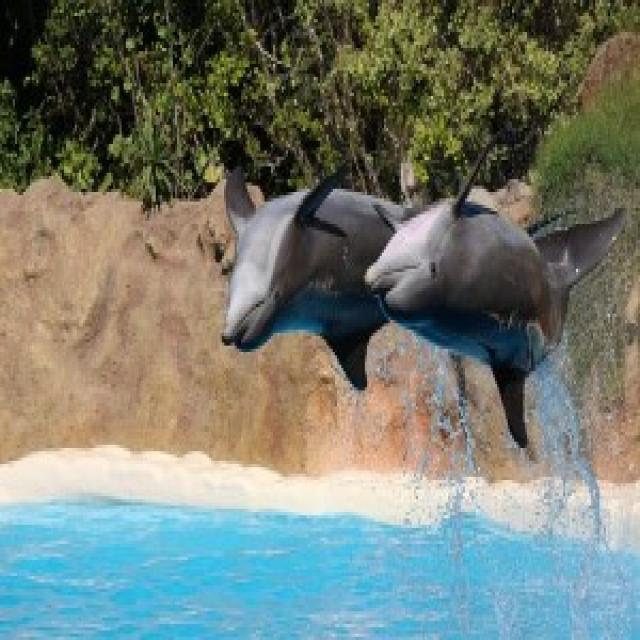Dolphin: (363, 152, 640, 438), (210, 118, 383, 386)
